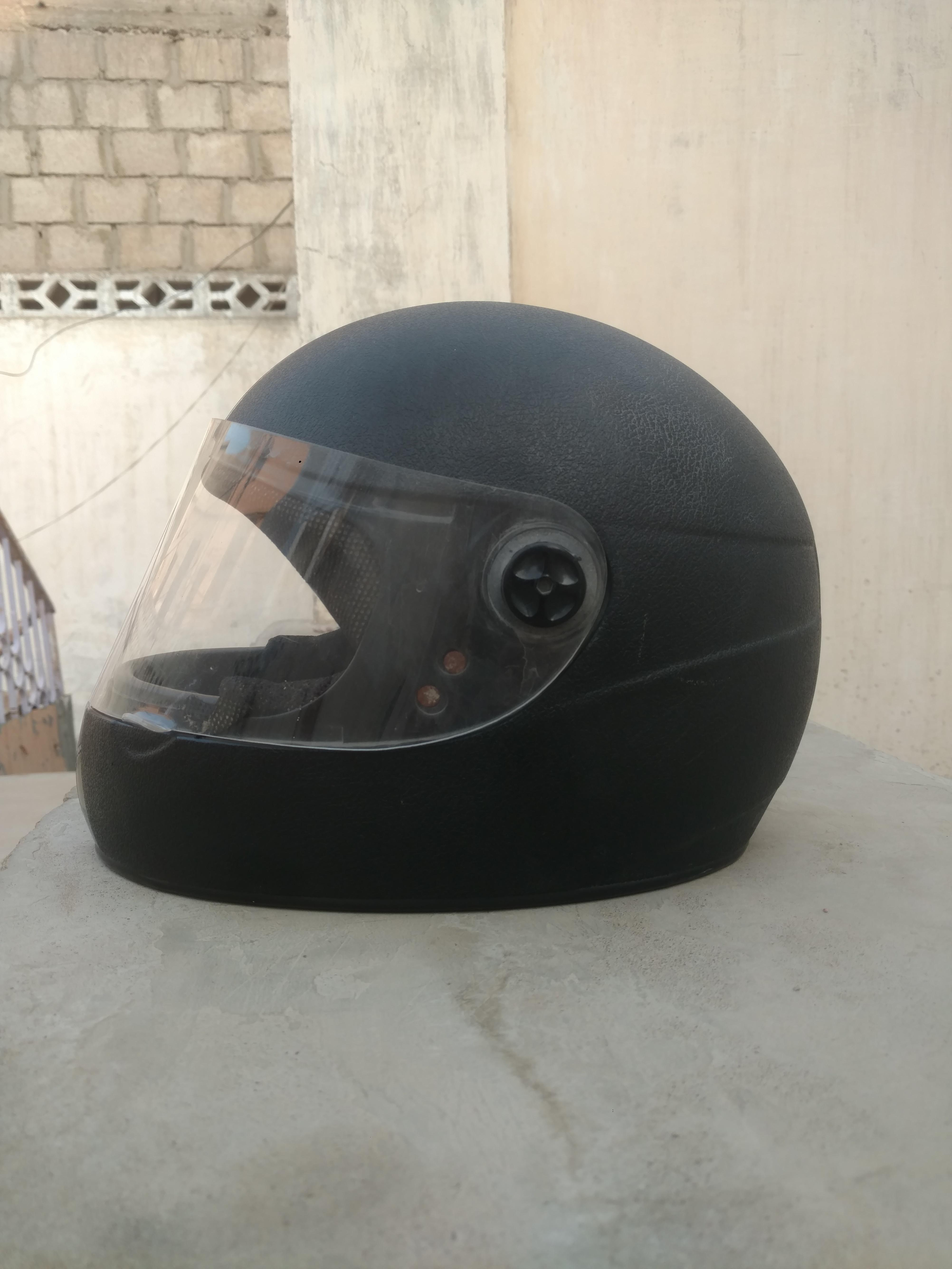helmet: (69, 285, 846, 921)
